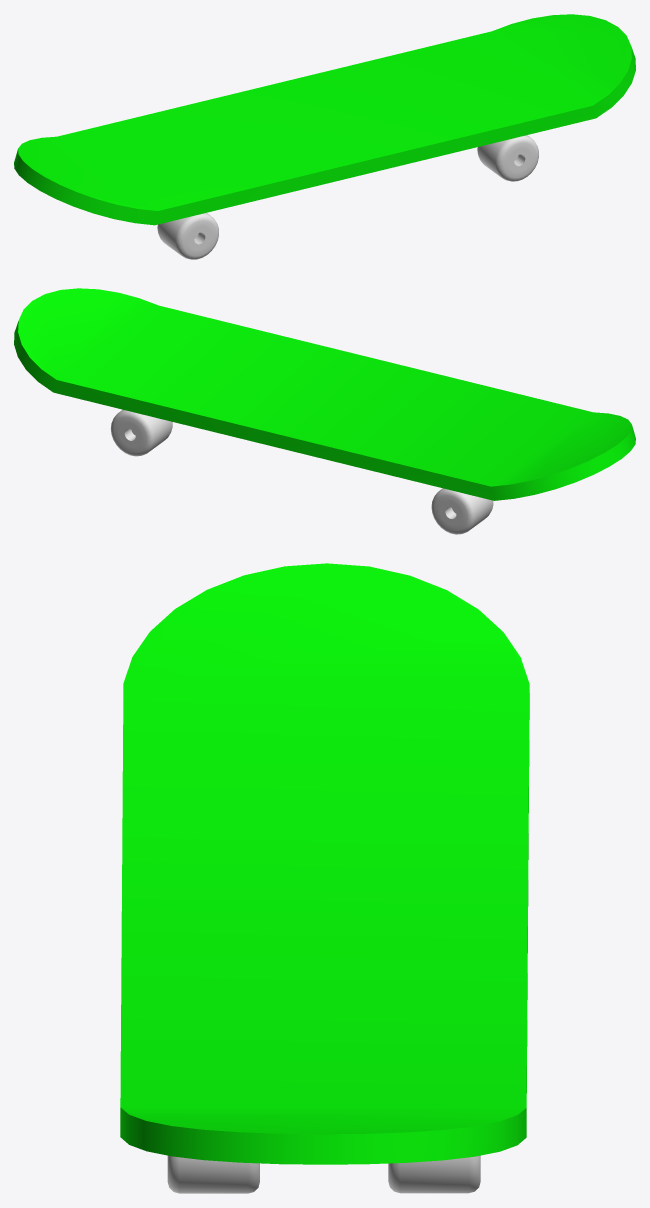
The model's file is SK_Skateboard_Rigged.fbx.
3 renders of one model, top to bottom at view 1: azimuth 30°, elevation 25°; view 2: azimuth 150°, elevation 25°; view 3: azimuth 270°, elevation 25°, orthographic. The views are drawn at different scales.
Parts seen in each view (by area): view 1: Shape, FL_Wheel, BL_Wheel; view 2: Shape, BR_Wheel, FR_Wheel; view 3: Shape, BL_Wheel, BR_Wheel.
Boxes of the visible parts, left/top/right/bottom form: Shape: left=14, top=14, right=635, bottom=225; FL_Wheel: left=157, top=212, right=218, bottom=259; BL_Wheel: left=477, top=135, right=538, bottom=181; Shape: left=14, top=288, right=635, bottom=500; BR_Wheel: left=110, top=410, right=172, bottom=456; FR_Wheel: left=431, top=488, right=493, bottom=534; Shape: left=120, top=563, right=529, bottom=1164; BL_Wheel: left=167, top=1155, right=259, bottom=1193; BR_Wheel: left=388, top=1155, right=480, bottom=1193.
Size of the model in its own units: 16.01 by 53.63 by 8.13.
